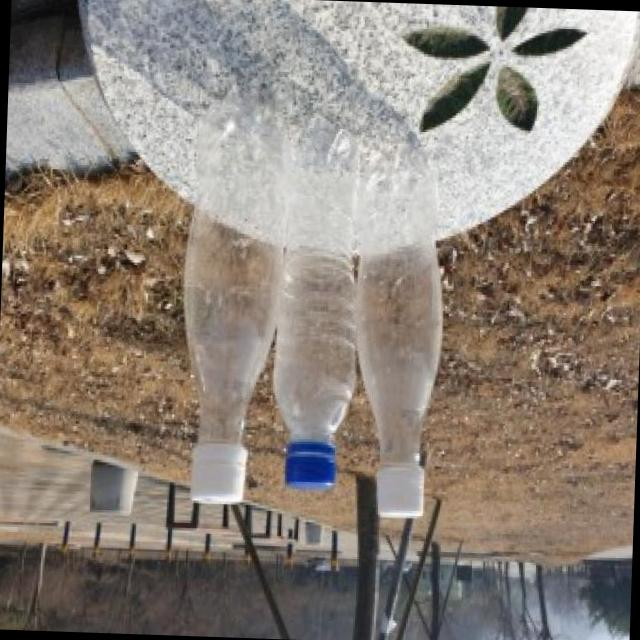plastic_bottle: (176, 96, 282, 506), (269, 114, 367, 488), (351, 140, 447, 518)
